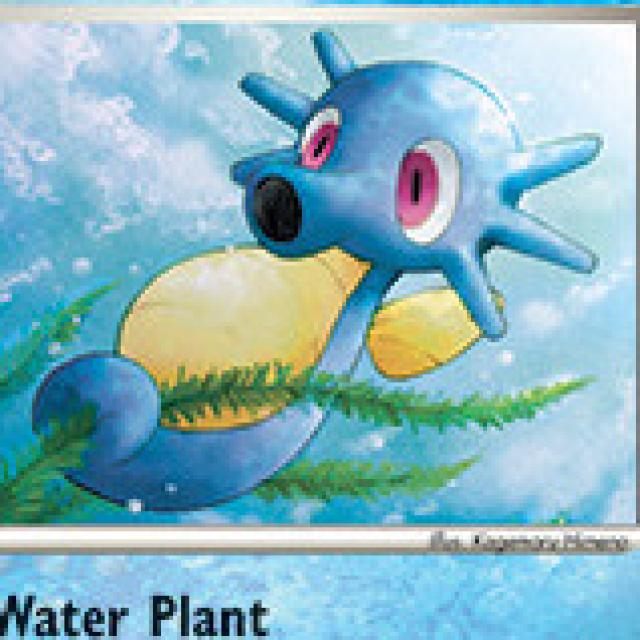Horsea: (101, 33, 605, 514)
